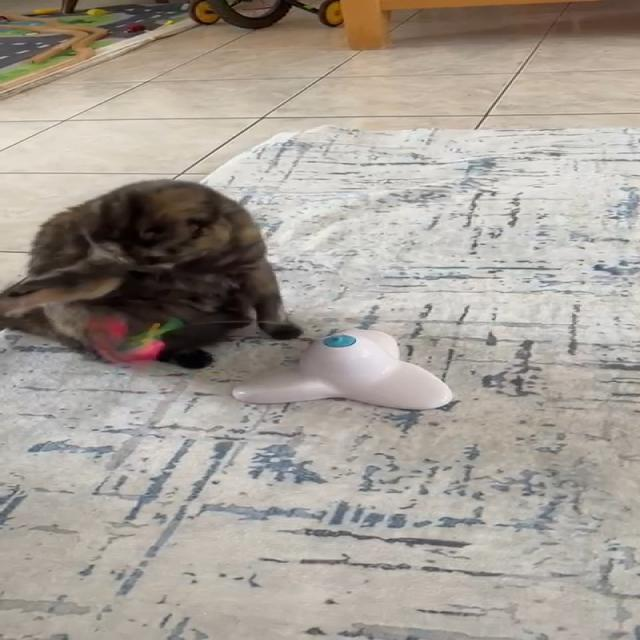authorized: (0, 178, 304, 369)
